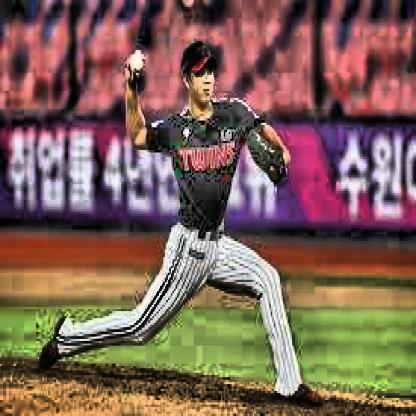baseball: (131, 56, 145, 74)
